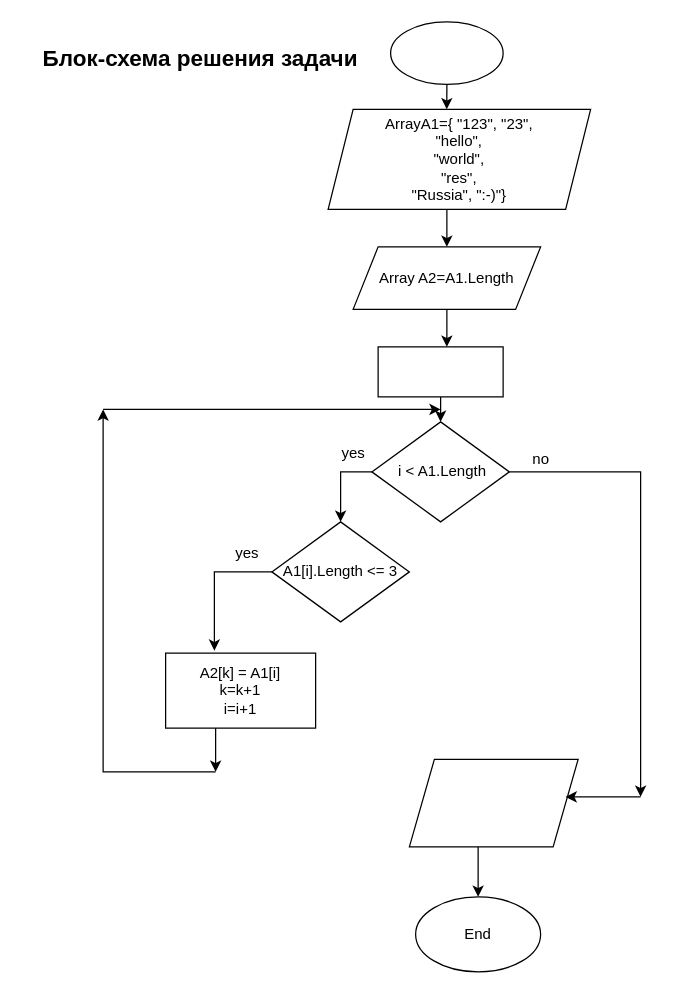
This 673x994 diagram has some shape labels left out. Here are the shapes that lost their labels. From the top down, the box of each, then its label:
(389, 21, 503, 84): Start
(377, 346, 503, 397): переменная k=0 переменная i=0
(408, 758, 578, 847): Вывод Array A2
